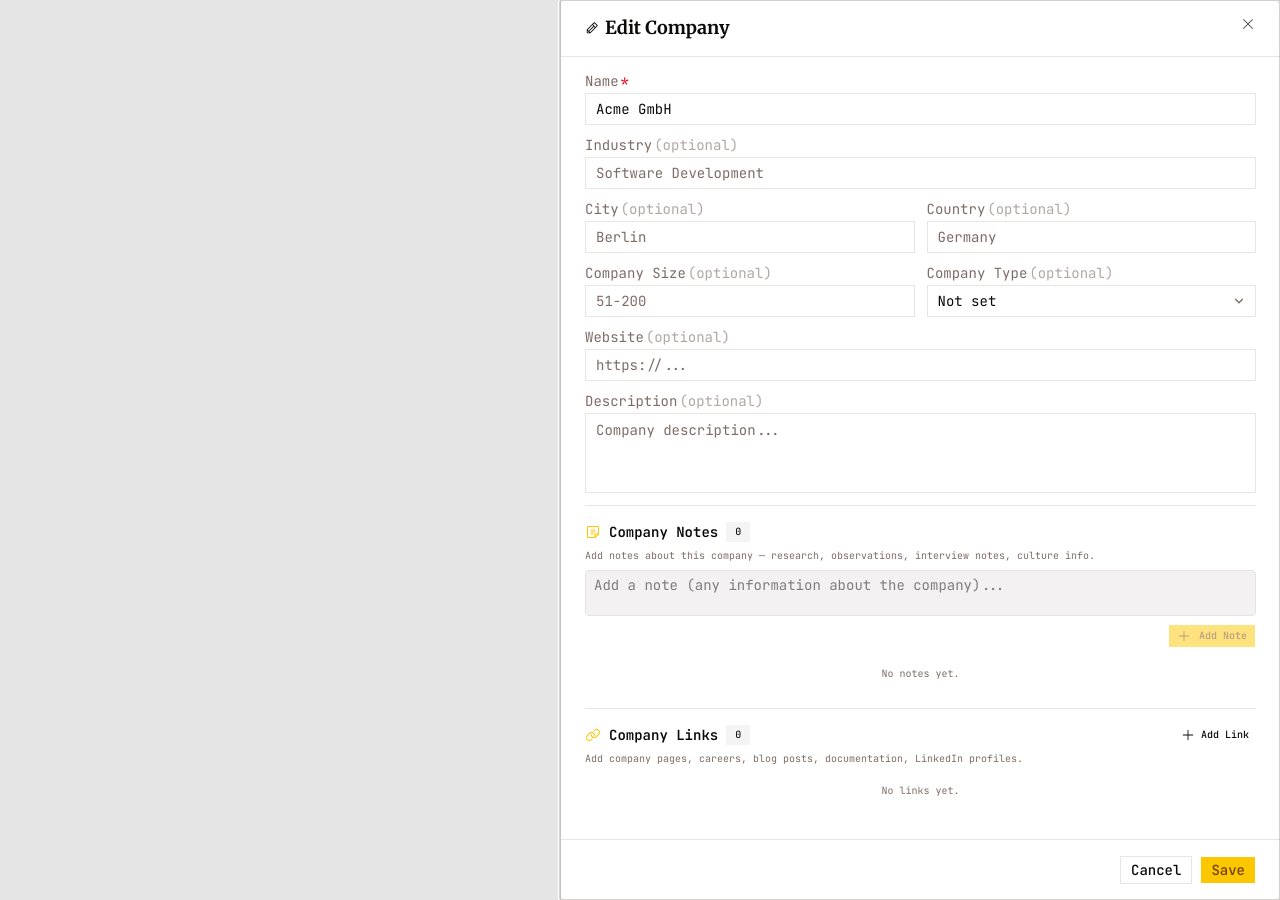
Test case: CompanyEditDrawer company type select › shows all five fixed options plus Not set
Check: the text "Not set" is shown, box top-left (938, 293), bottom-right (996, 309)
Click the dropdown with id "company-type": (967, 301) top-left (926, 285), bottom-right (1256, 317)
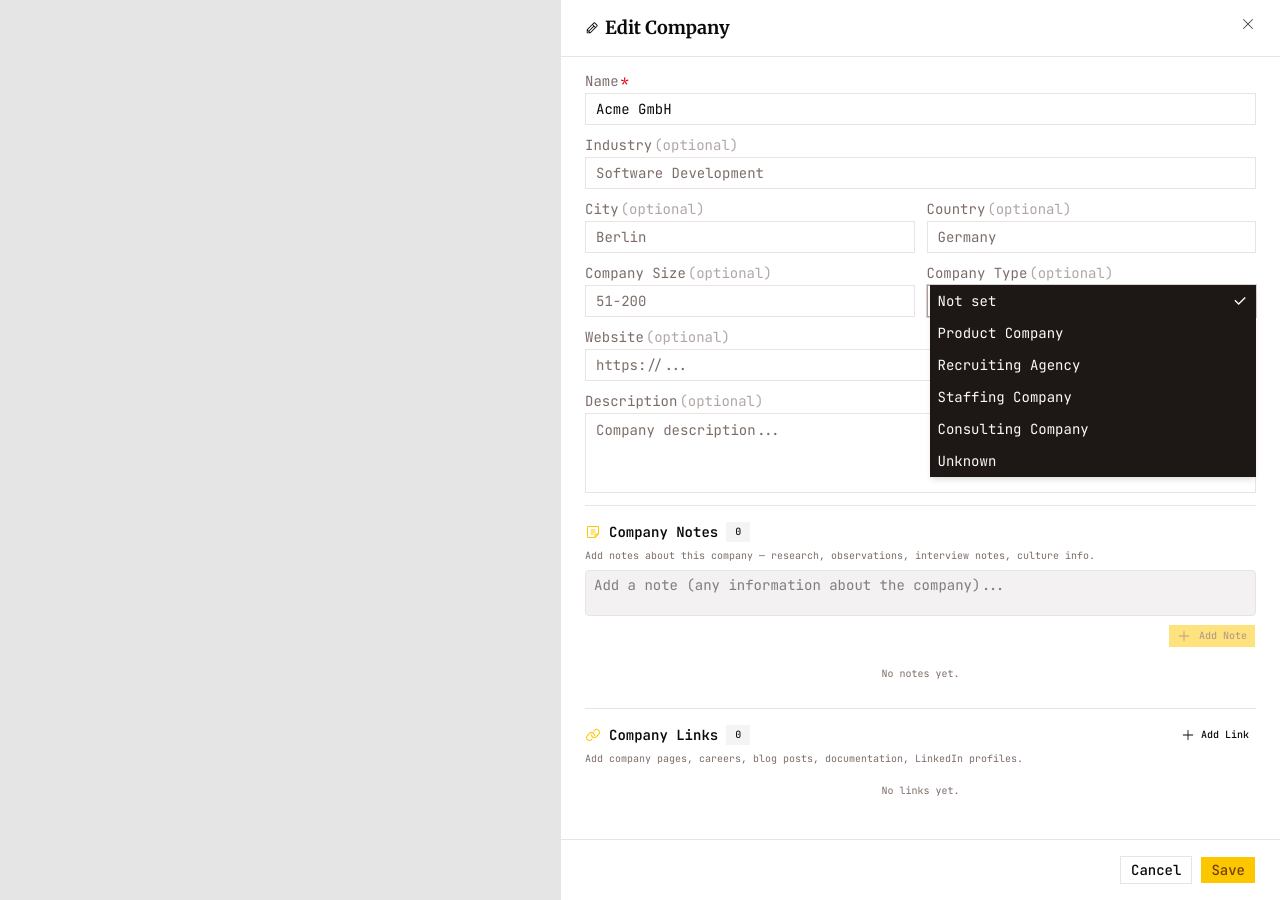
Check: the text "Product Company" is shown, box top-left (938, 325), bottom-right (1064, 341)
Check: the text "Recruiting Agency" is shown, box top-left (938, 357), bottom-right (1080, 373)
Check: the text "Staffing Company" is shown, box top-left (938, 389), bottom-right (1072, 405)
